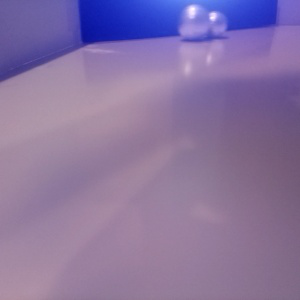alive_ball: (177, 5, 210, 39), (201, 11, 228, 37)
